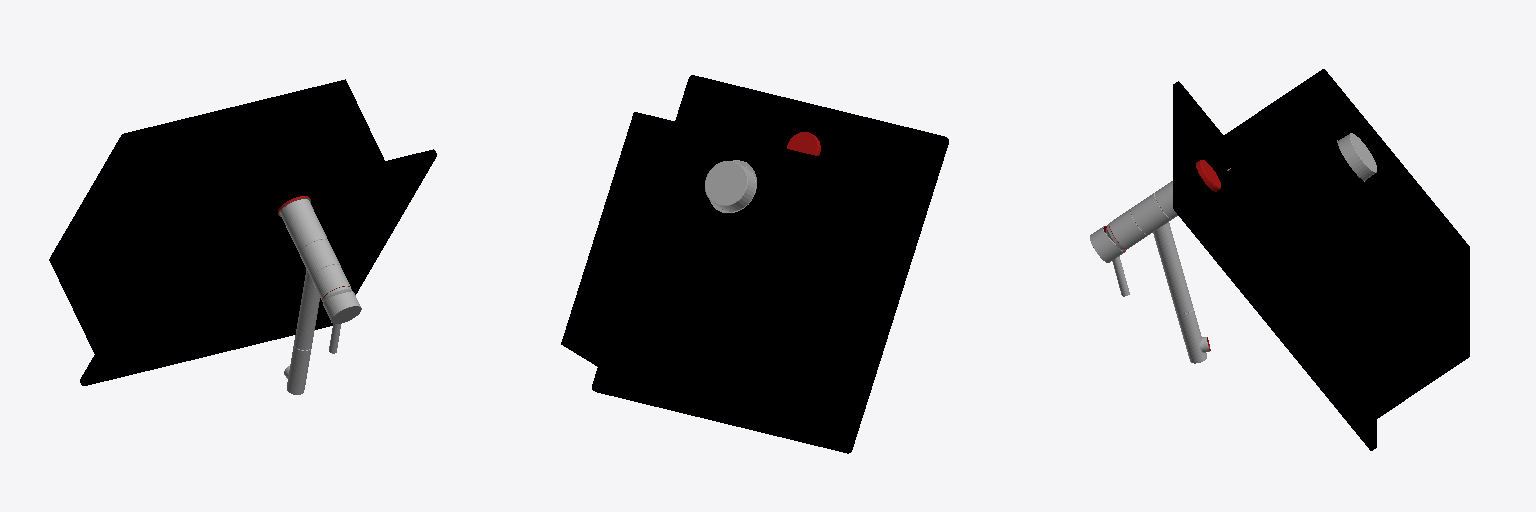
File: longtou.obj
3 renders of one model, left to right at view 1: azimuth 30°, elevation 25°; view 2: azimuth 150°, elevation 25°; view 3: azimuth 270°, elevation 25°, orthographic.
Parts seen in each view (by area): view 1: Object.1, Object.2; view 2: Object.1; view 3: Object.1, Object.2.
Part boxes in pixels (bbox=[...]): Object.1: bbox=[49, 79, 436, 394]; Object.2: bbox=[323, 291, 361, 353]; Object.1: bbox=[561, 75, 948, 453]; Object.1: bbox=[1106, 69, 1469, 450]; Object.2: bbox=[1090, 226, 1129, 296].
Size of the model in its own units: 460 by 454 by 587.